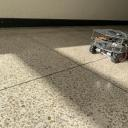cart: (89, 28, 127, 64)
